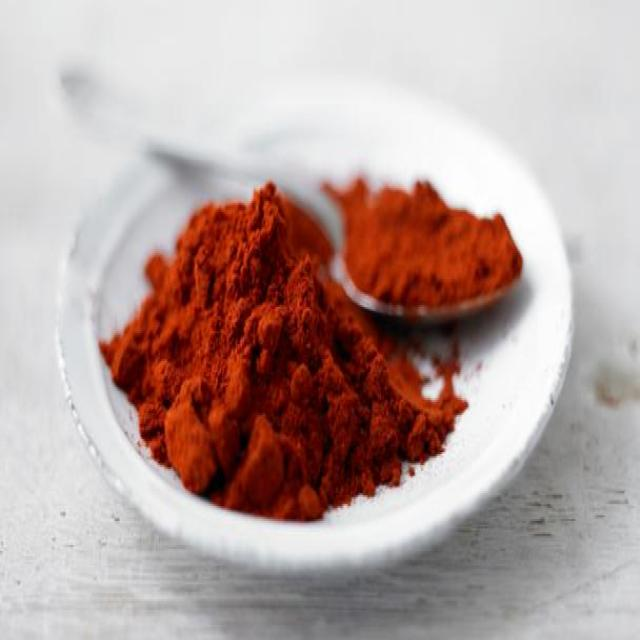Paprika: (102, 153, 562, 612), (311, 126, 540, 366), (190, 212, 326, 471)
